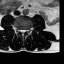CCS_normal: (21, 26, 24, 38)
LFS_normal: (26, 26, 28, 34)
LLS_stenosis: (24, 26, 26, 34)
RFS_stenosis: (17, 26, 19, 34)
RLS_normal: (19, 26, 21, 34)
